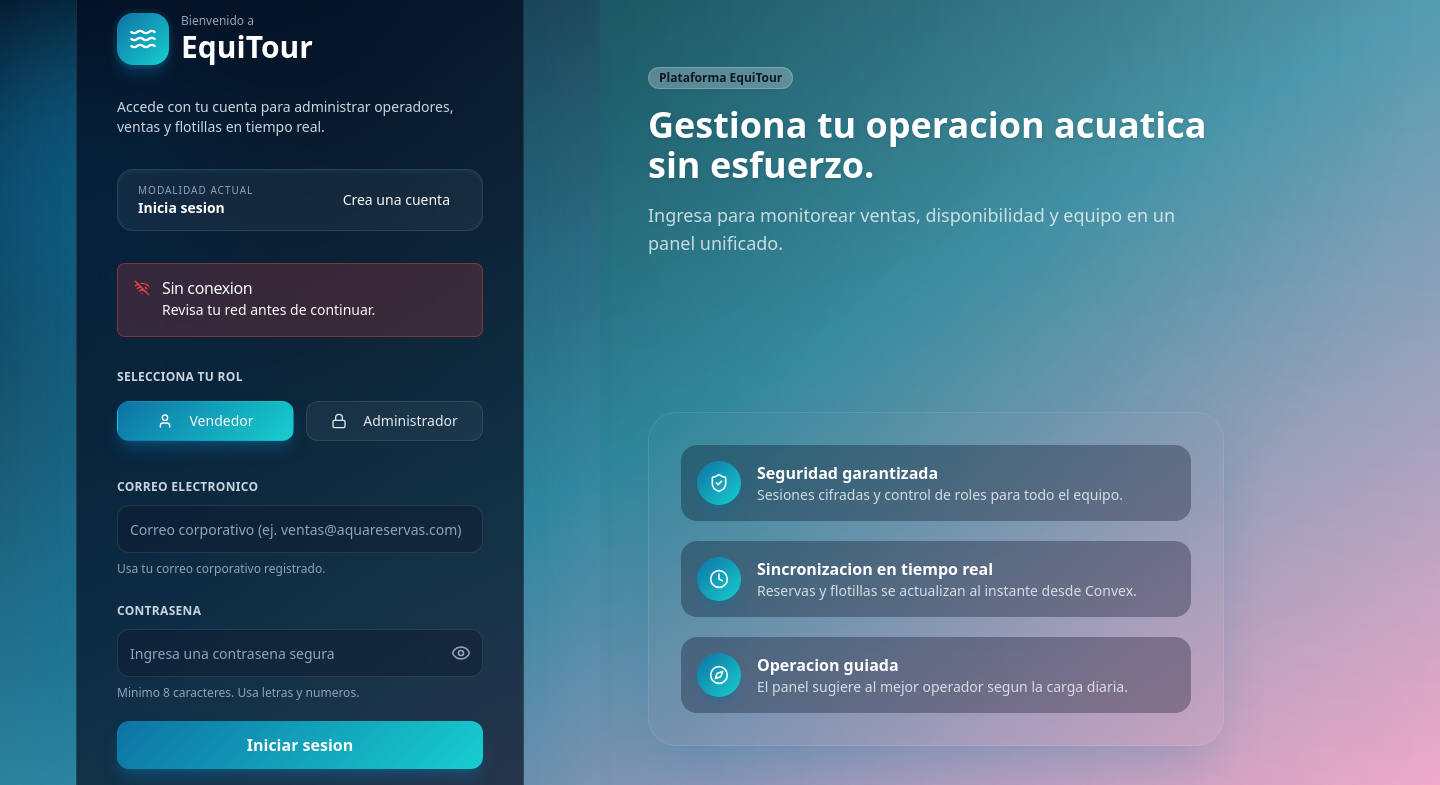
Scenario: LoginScreen › blocks submissions while offline and surfaces an error message
This screenshot has width=1440, height=785.
Check: the heading "Sin conexion" is shown, box [162,277,252,299]
Type "ventas@aquareservas.com" into the field labelled "Correo electronico" at coordinates (300, 529), box [117,505,483,553]
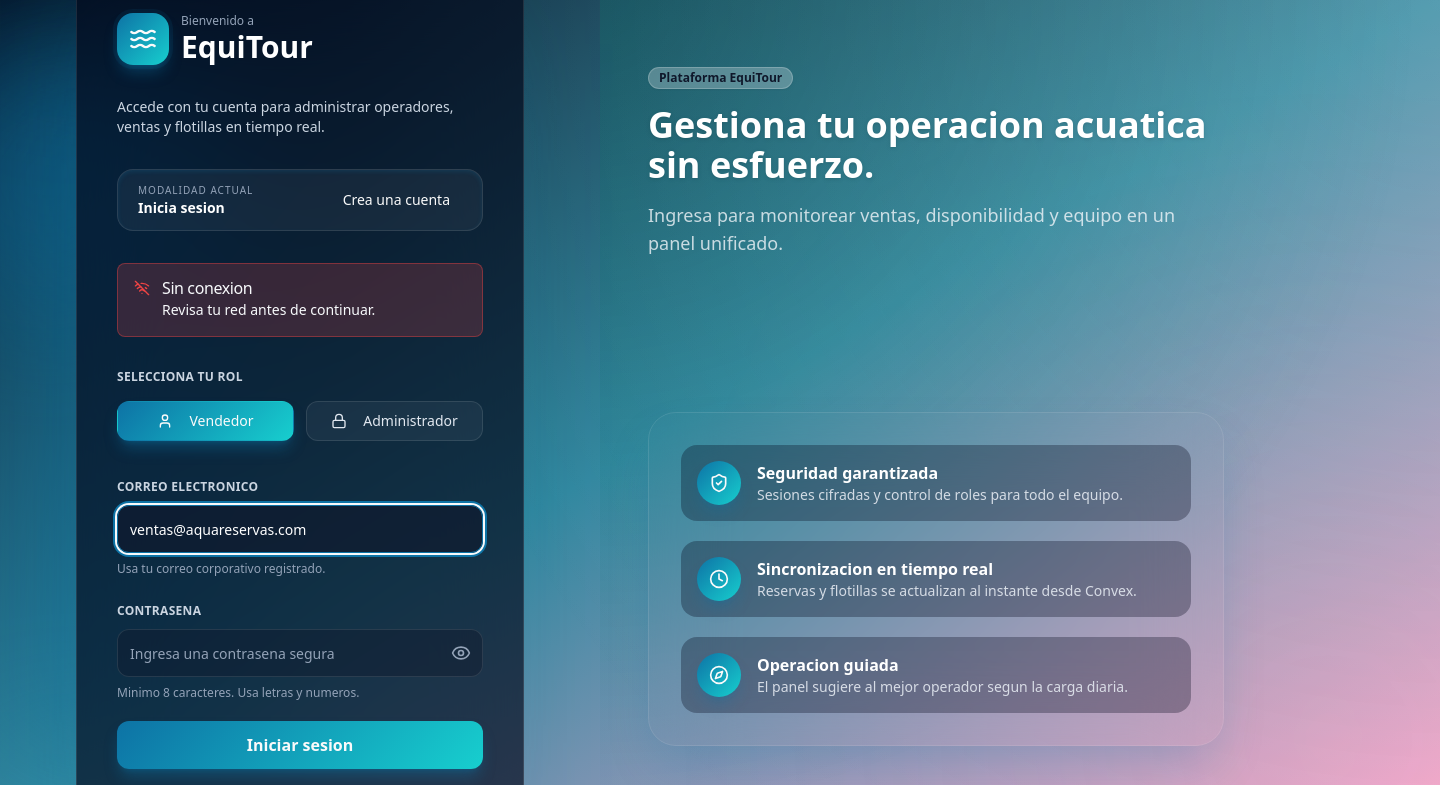
Type "password123" into the password field labelled "Contrasena" at coordinates (300, 653), box [117,629,483,677]
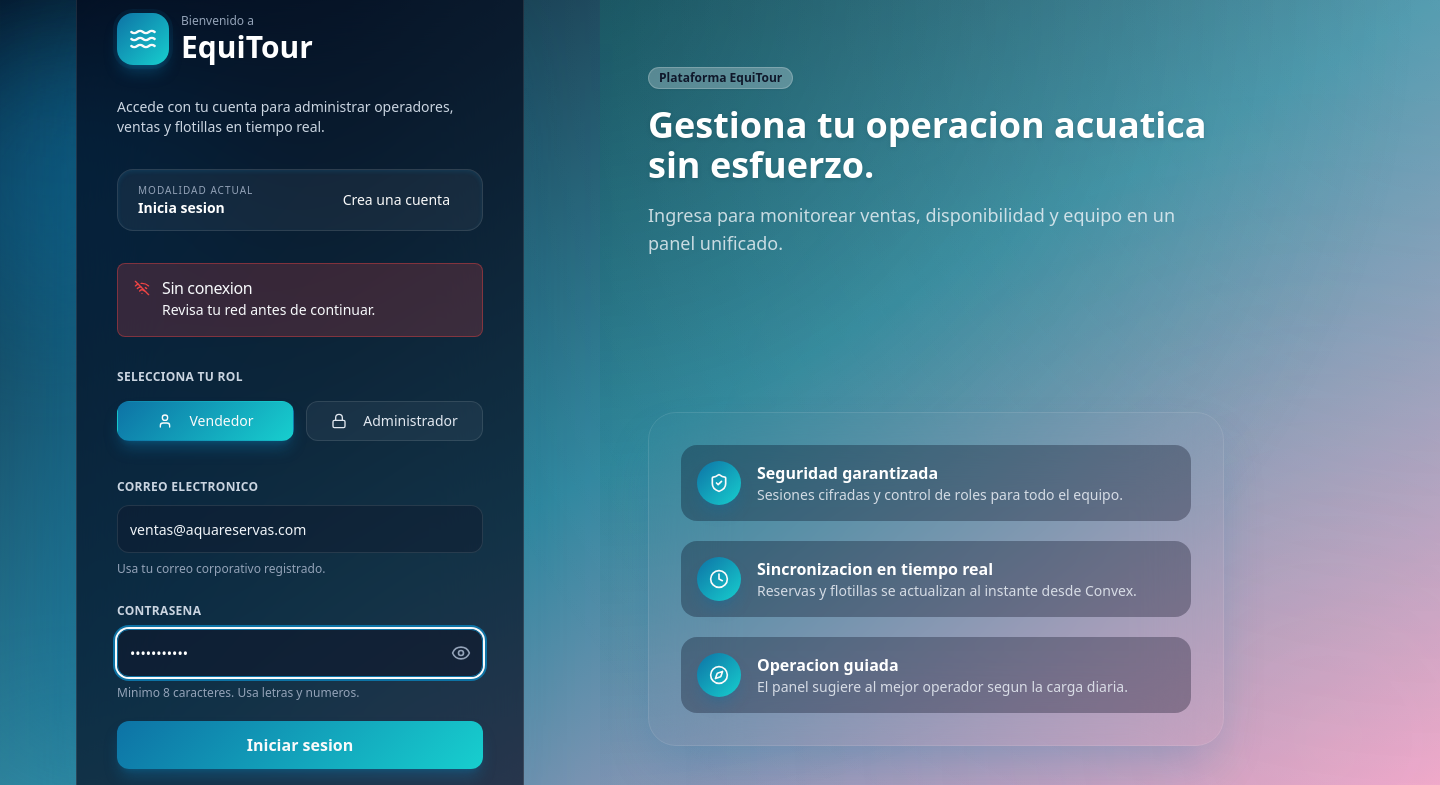
Click the button "Iniciar sesion" at coordinates (300, 745), box [117,721,483,769]
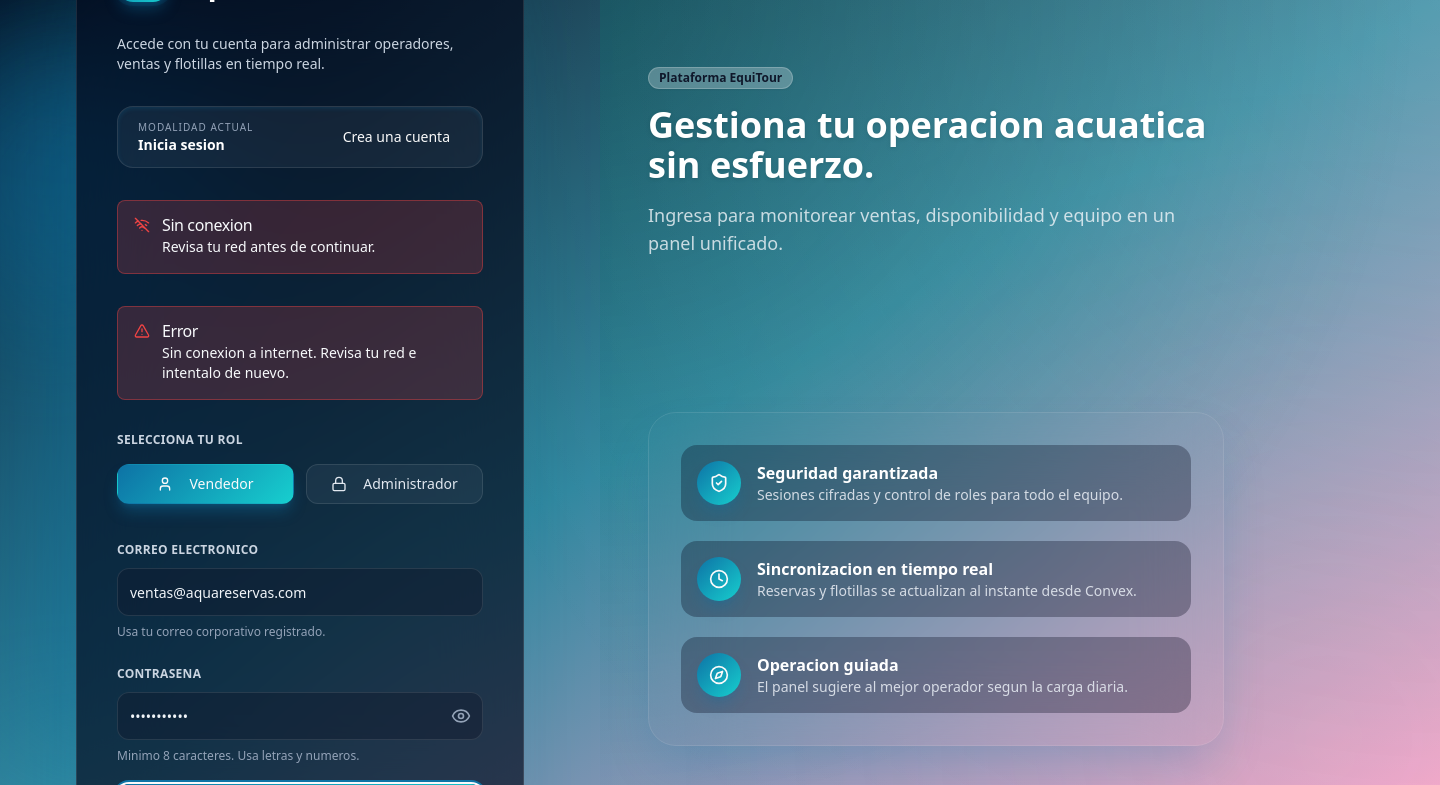
Check: the text "Revisa tu red antes de continuar." is shown, box [162,237,375,256]
Check: the text "Sin conexion a internet. Revisa tu red e intentalo de nuevo." is shown, box [162,343,416,382]
